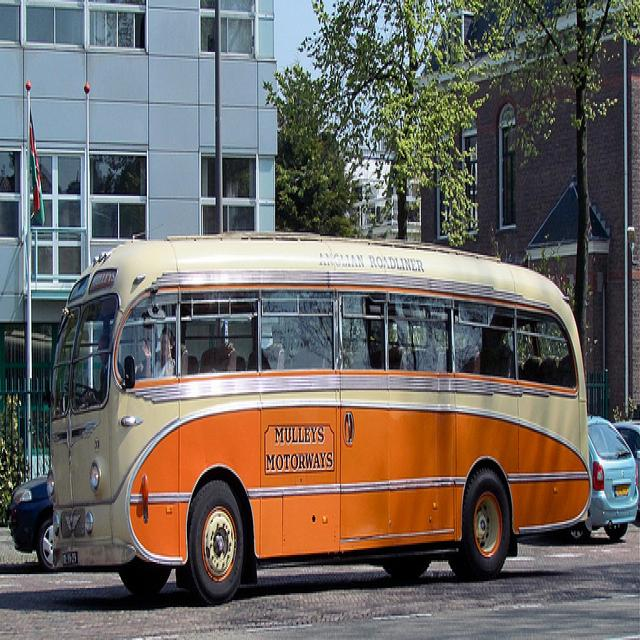Vehicle: (48, 237, 592, 606), (566, 414, 638, 546), (8, 471, 54, 573), (612, 422, 640, 528)
